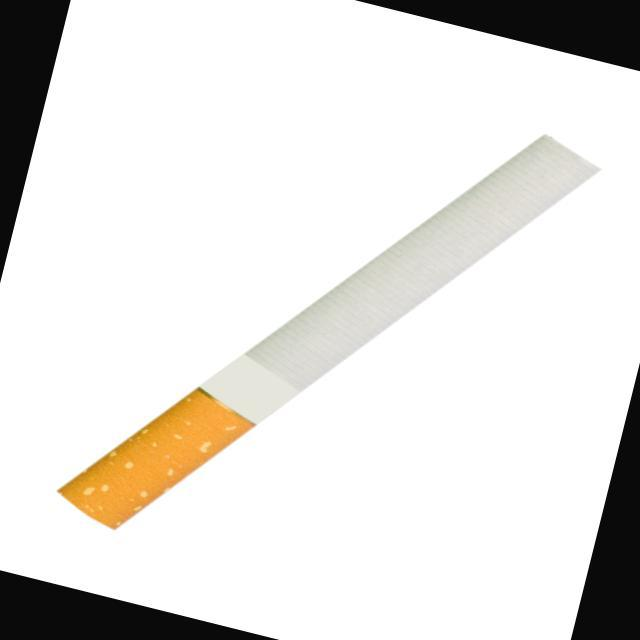cigarette: (32, 33, 620, 625)
